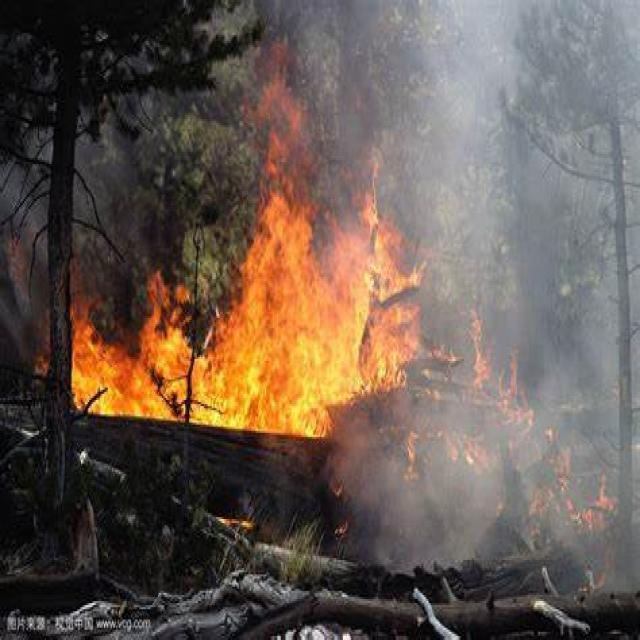Fire: (71, 40, 428, 438)
